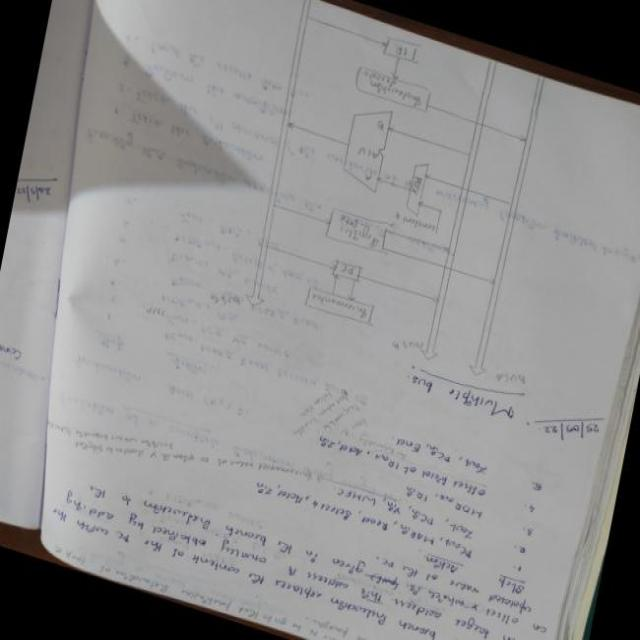Figure Detection - v3 Dataset Version2: (176, 0, 595, 413)
